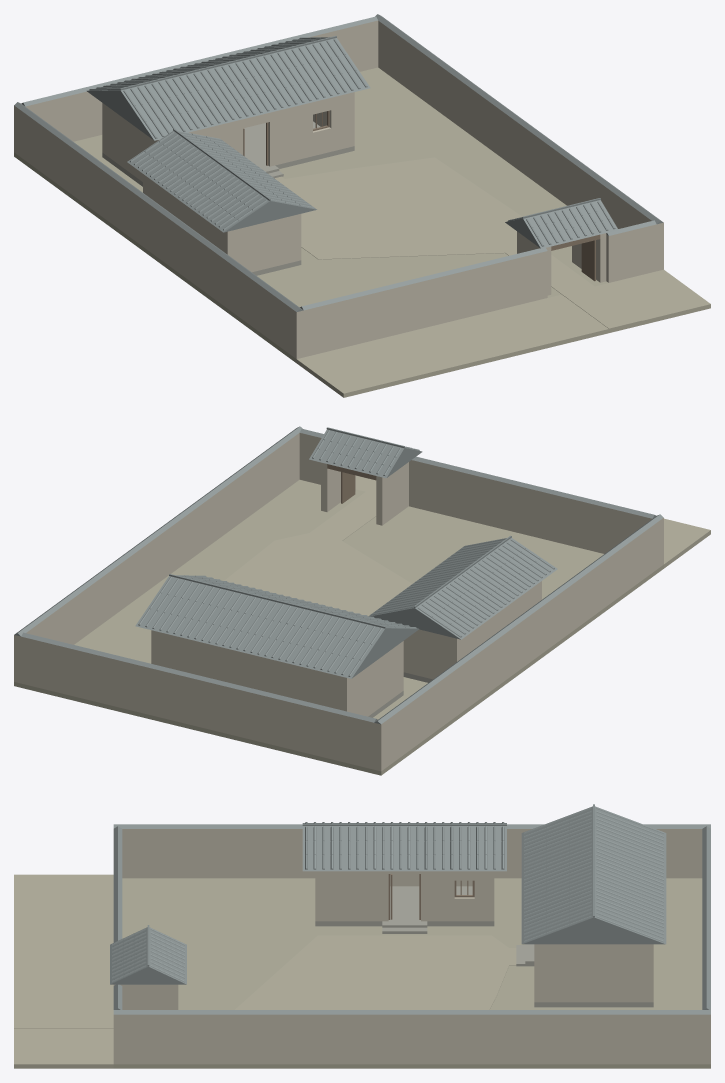
File: R01-A-LOD0-prototype.glb
3 views of the same model, one above another, from view 1: azimuth 30°, elevation 25°; view 2: azimuth 150°, elevation 25°; view 3: azimuth 270°, elevation 25° (orthographic). The views are drawn at different scales.
Parts seen in each view (by area): view 1: architecture_C_whitebox_earth_wall, architecture_C_roof_rhythm_not_glaze_copy, site_lot, designed_hardpacked_activity_ground, site_neutral_lane, architecture_C_floor_plinth, architecture_C_plain_timber; view 2: architecture_C_whitebox_earth_wall, architecture_C_roof_rhythm_not_glaze_copy, site_lot, designed_hardpacked_activity_ground, site_neutral_lane, architecture_C_plain_timber; view 3: architecture_C_whitebox_earth_wall, architecture_C_roof_rhythm_not_glaze_copy, site_lot, designed_hardpacked_activity_ground, site_neutral_lane, architecture_C_floor_plinth, architecture_C_plain_timber.
Part boxes in pixels (left/top/right/bottom): architecture_C_whitebox_earth_wall: left=14, top=20, right=663, bottom=358; architecture_C_roof_rhythm_not_glaze_copy: left=14, top=14, right=663, bottom=311; site_lot: left=14, top=67, right=608, bottom=362; designed_hardpacked_activity_ground: left=275, top=157, right=641, bottom=328; site_neutral_lane: left=296, top=269, right=710, bottom=397; architecture_C_floor_plinth: left=102, top=121, right=354, bottom=275; architecture_C_plain_timber: left=243, top=110, right=600, bottom=281; architecture_C_whitebox_earth_wall: left=14, top=433, right=663, bottom=771; architecture_C_roof_rhythm_not_glaze_copy: left=14, top=426, right=663, bottom=724; site_lot: left=14, top=480, right=663, bottom=775; designed_hardpacked_activity_ground: left=224, top=484, right=412, bottom=616; site_neutral_lane: left=355, top=475, right=710, bottom=568; architecture_C_plain_timber: left=327, top=464, right=376, bottom=503; architecture_C_whitebox_earth_wall: left=113, top=829, right=710, bottom=1064; architecture_C_roof_rhythm_not_glaze_copy: left=110, top=804, right=710, bottom=1014; site_lot: left=113, top=878, right=710, bottom=1068; designed_hardpacked_activity_ground: left=14, top=935, right=516, bottom=1028; site_neutral_lane: left=14, top=874, right=113, bottom=1068; architecture_C_floor_plinth: left=315, top=886, right=653, bottom=1007; architecture_C_plain_timber: left=388, top=874, right=474, bottom=919.
Size of the model in its own units: 18 by 4.49 by 28.
